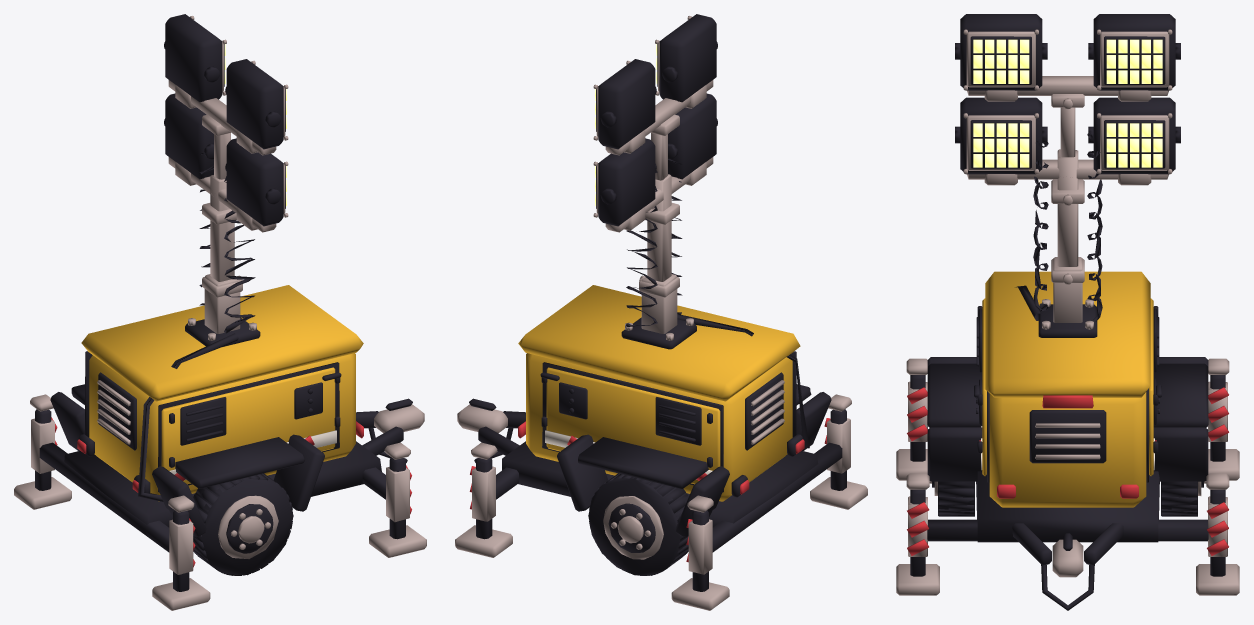
The model's file is prop.light-tower-trailer.lod1.glb.
3 renders of one model, left to right at view 1: azimuth 30°, elevation 25°; view 2: azimuth 150°, elevation 25°; view 3: azimuth 270°, elevation 25°, orthographic. The views are drawn at different scales.
Parts seen in each view (by area): view 1: object 2, body; view 2: object 2, body; view 3: object 2, body.
Boxes of the visible parts, bbox=[...] form: object 2: bbox=[14, 14, 426, 610]; body: bbox=[81, 285, 363, 501]; object 2: bbox=[455, 14, 867, 610]; body: bbox=[518, 285, 800, 501]; object 2: bbox=[896, 14, 1239, 610]; body: bbox=[985, 271, 1150, 507].
Size of the model in its own units: 3.22 by 4.41 by 2.68.
